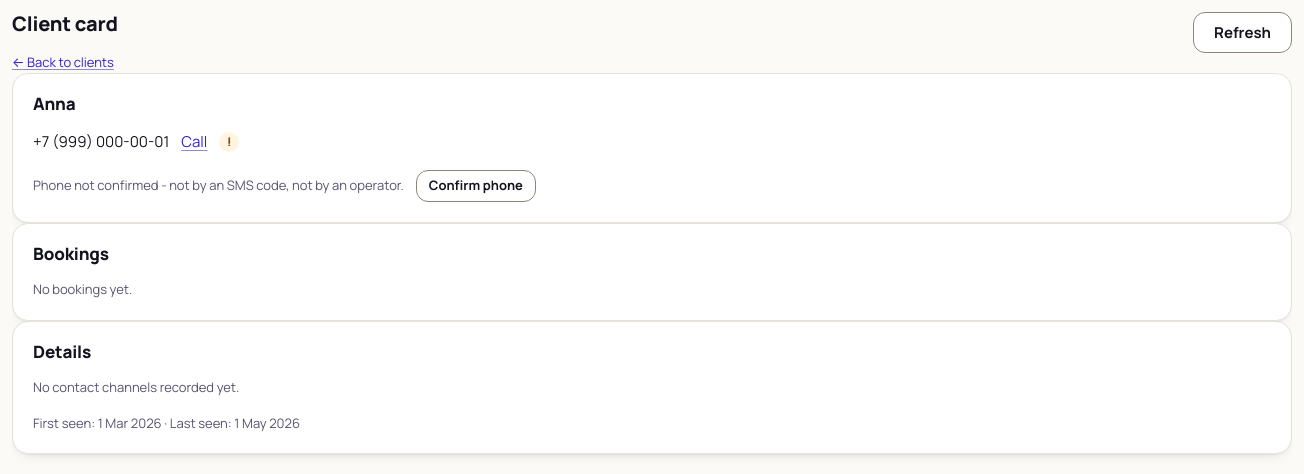
Scenario: the client-detail header › confirms the phone by operator and clears the warning glyph without a further reload
The image size is (1304, 474).
Step 1. Click the button "Confirm phone" → [476, 186], box [416,170,536,202]
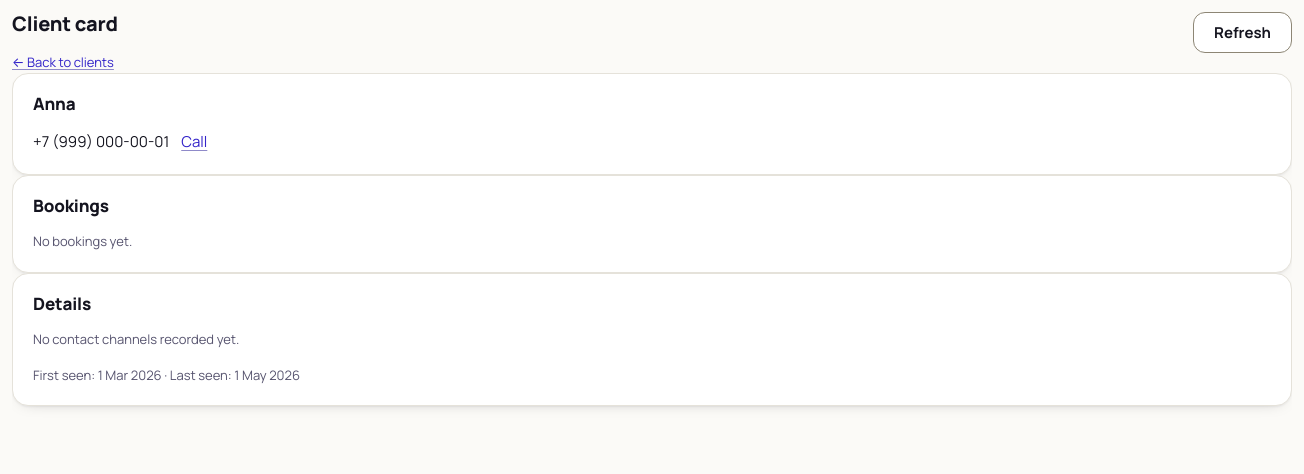
expect the picture with class "ago-phone-status-warning" is gone: met
